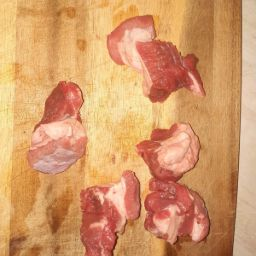Chicken Strips: (87, 7, 220, 118), (127, 117, 221, 256), (12, 71, 96, 198), (76, 169, 146, 255)
